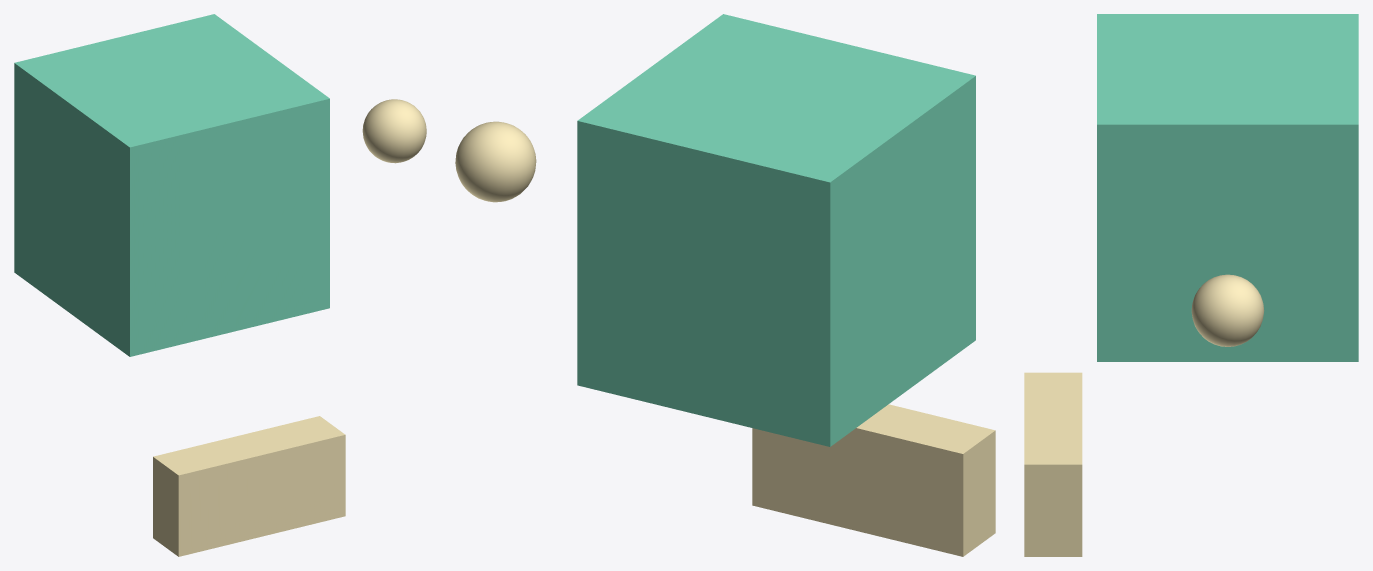
The model's file is SpatialBaseline.unity.glb.
3 renders of one model, left to right at view 1: azimuth 30°, elevation 25°; view 2: azimuth 150°, elevation 25°; view 3: azimuth 270°, elevation 25°, orthographic. The views are drawn at different scales.
Visible parts, largest first — view 1: Baseline model, Press to rotate, Input indicator; view 2: Baseline model, Press to rotate, Input indicator; view 3: Baseline model, Press to rotate, Input indicator.
Part boxes in pixels (x1=…): Baseline model: x1=14, y1=14, x2=329, y2=356; Press to rotate: x1=153, y1=416, x2=345, y2=556; Input indicator: x1=362, y1=99, x2=426, y2=163; Baseline model: x1=577, y1=14, x2=975, y2=446; Press to rotate: x1=752, y1=404, x2=995, y2=556; Input indicator: x1=455, y1=121, x2=536, y2=202; Baseline model: x1=1097, y1=14, x2=1358, y2=361; Press to rotate: x1=1024, y1=372, x2=1082, y2=556; Input indicator: x1=1191, y1=274, x2=1264, y2=346.
Bounding box in the file's own units: 0.315 × 0.335 × 0.23.
